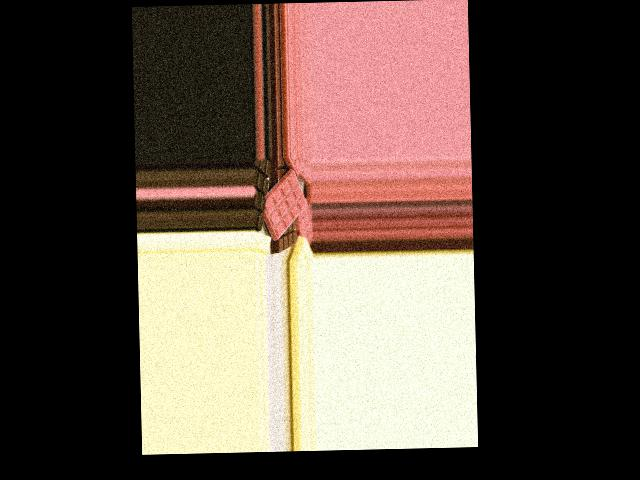chocolate: (252, 168, 309, 239)
